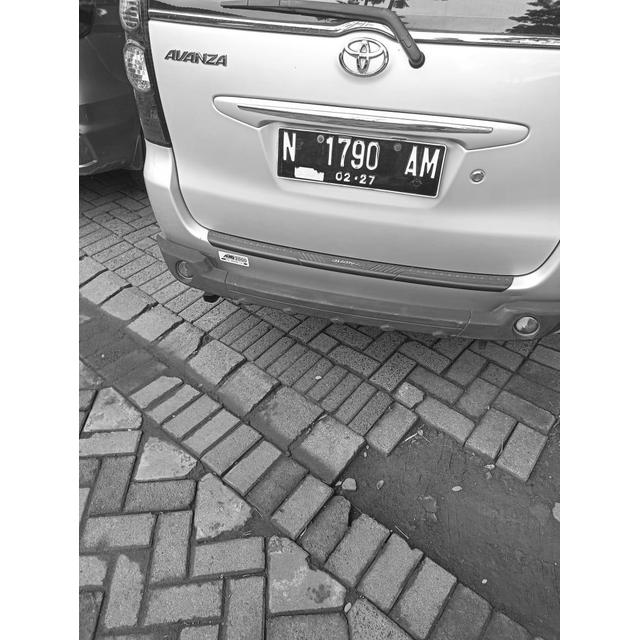license: (280, 128, 440, 192)
